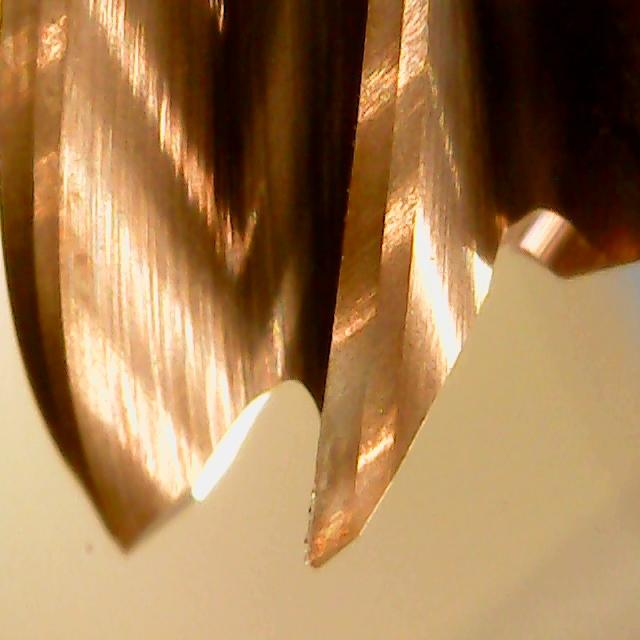Tool-wear-class-0: (296, 217, 426, 573)
